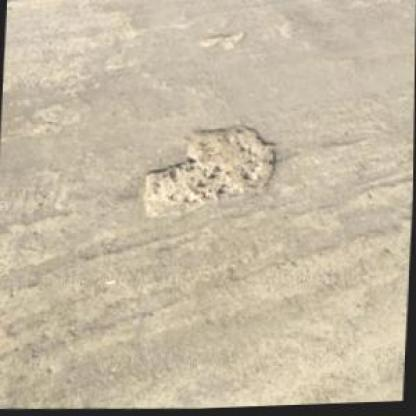pothole: (139, 116, 280, 224), (200, 32, 250, 51)
